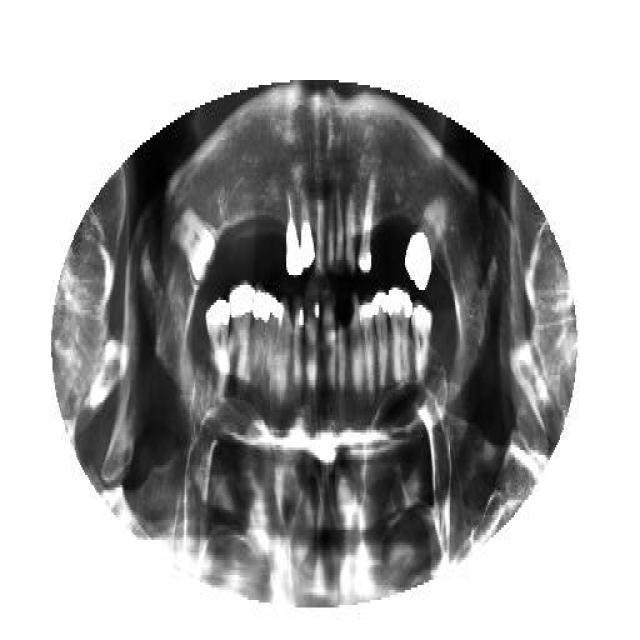Cavity: (335, 313, 347, 395)
Fillings: (402, 198, 448, 290), (229, 282, 255, 388), (205, 298, 231, 390), (388, 287, 412, 385), (356, 175, 376, 273), (372, 290, 388, 395), (412, 302, 432, 382), (360, 298, 375, 398), (300, 180, 315, 278), (254, 280, 268, 382), (269, 292, 280, 398)
Implant: (284, 188, 302, 278)
